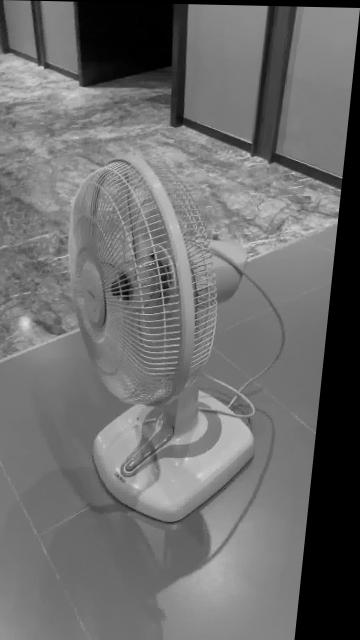Fan: (74, 149, 264, 522)
